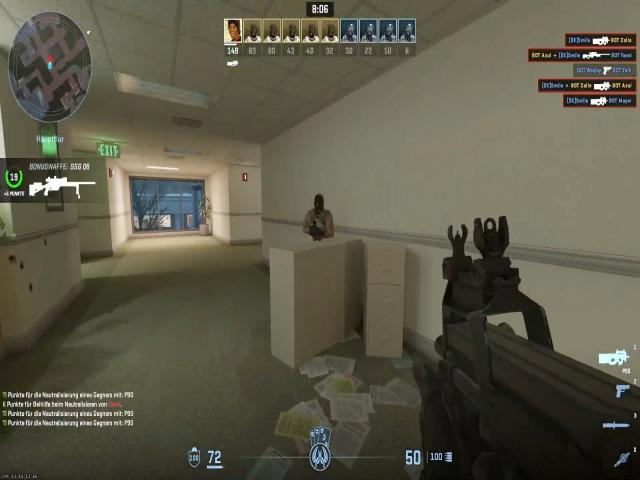T: (308, 211, 333, 238)
T-Head: (314, 193, 326, 213)
